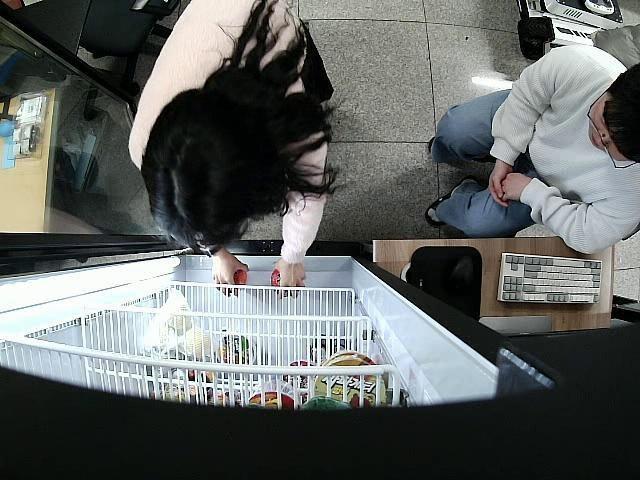02_shinRamen_S: (219, 272, 250, 294), (269, 268, 280, 286)
